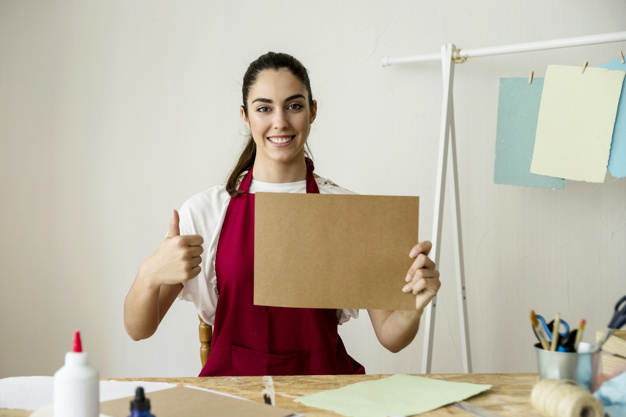thumbsup: (168, 209, 204, 284)
